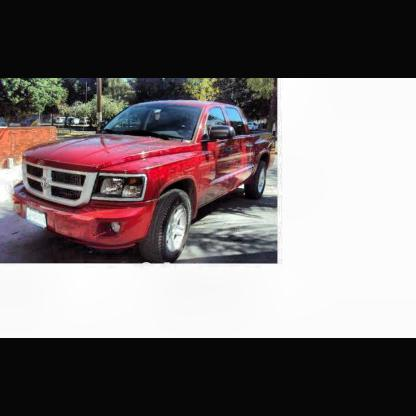Dodge Dakota Crew Cab 2010: (14, 100, 276, 263)
